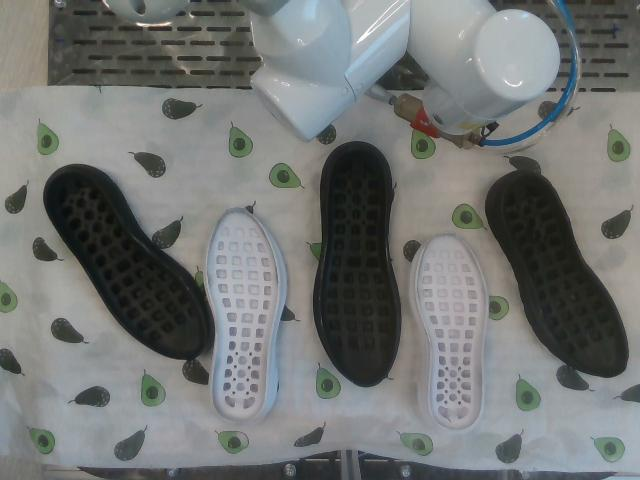shoes: (46, 172, 205, 358), (502, 174, 627, 376), (321, 149, 396, 385), (207, 208, 278, 422), (418, 233, 486, 430)
